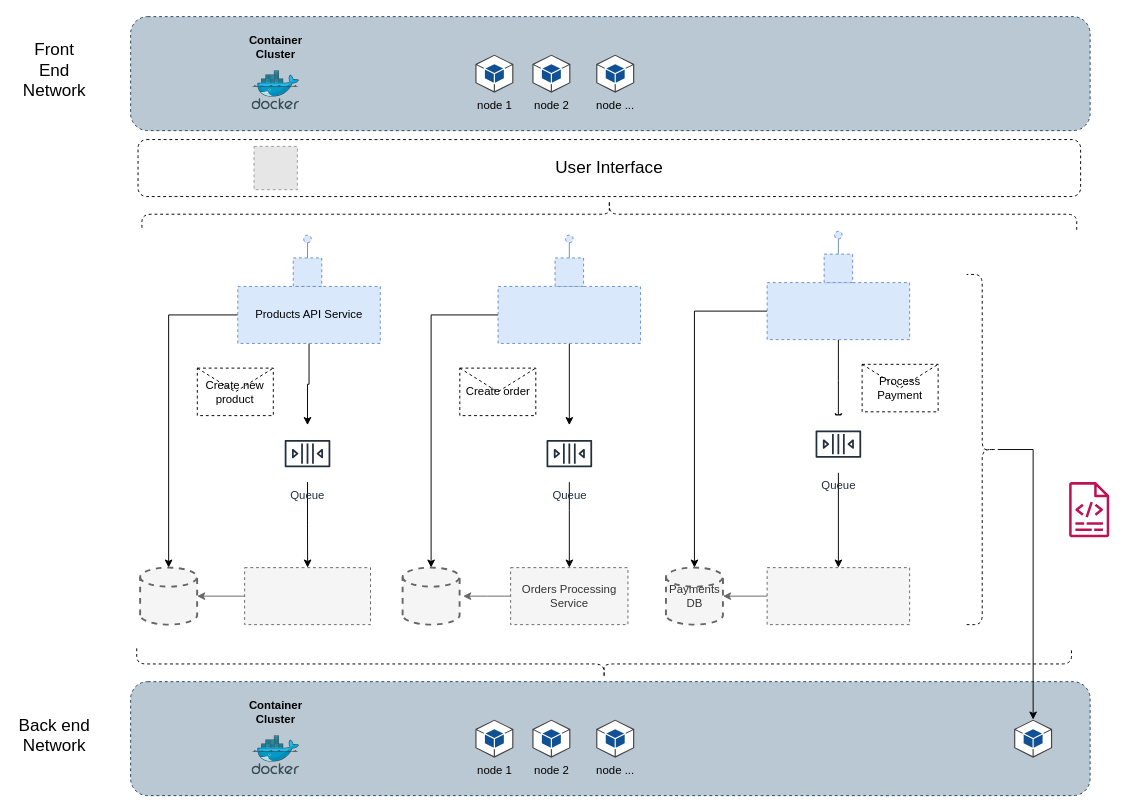
Some shapes in this 1148 by 812 pixel diagram are drawn without their labels. Grey dashed boxes stand in for pictures. The centre of each missing label's shape, as x and y in pixels:
"Centralized Logs" goes at [1089,509].
"Logging Node" goes at [1032,738].
"Orders API Service" goes at [569,314].
"Orders DB" goes at [430,595].
"Payments API Service" goes at [838,311].
"Payments Processing Service" goes at [838,596].
"Products DB" goes at [168,595].
"Products Processing Service" goes at [307,596].
